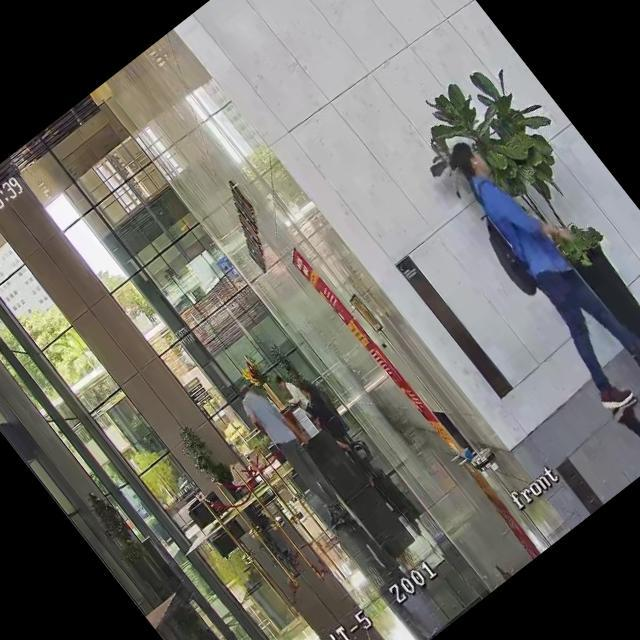person: (419, 114, 640, 416), (228, 371, 352, 517), (286, 372, 364, 461), (270, 369, 314, 418)
